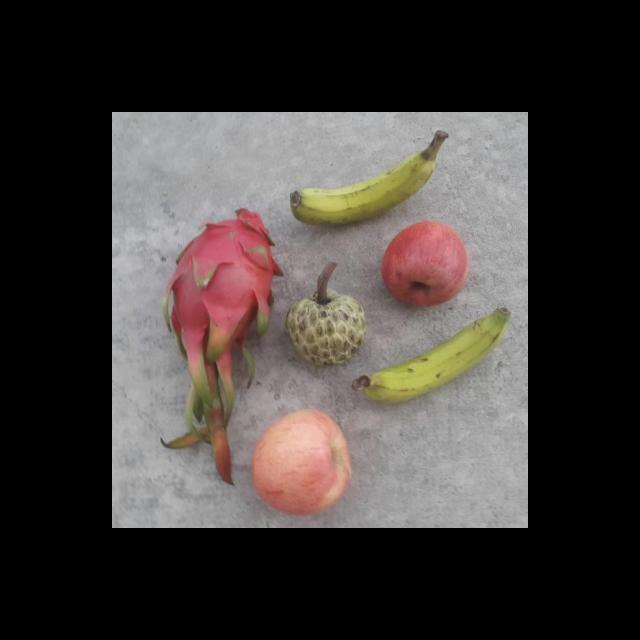Sakya fruit: (284, 282, 368, 370)
apple: (250, 408, 354, 519), (380, 220, 470, 310)
banana: (290, 132, 449, 226), (360, 306, 512, 402)
pitaya: (163, 208, 278, 352)
